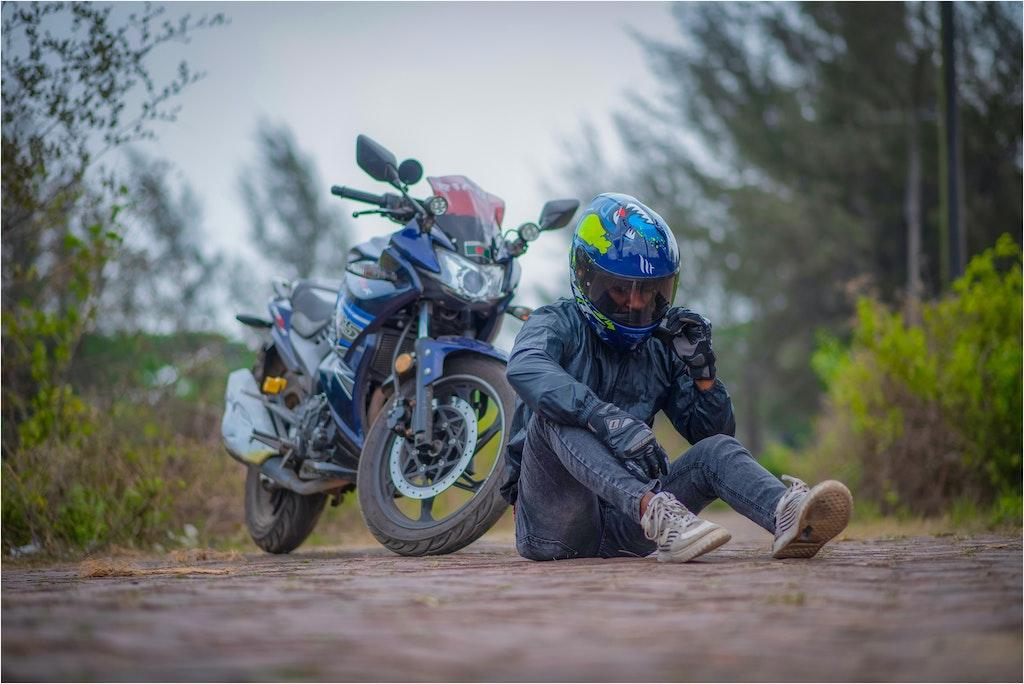helmet: (568, 191, 682, 356)
